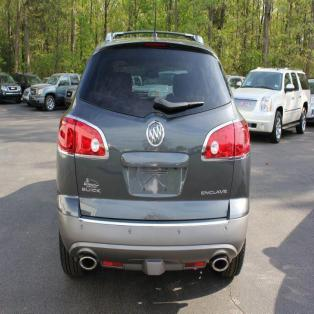Auto: (56, 30, 250, 279)
